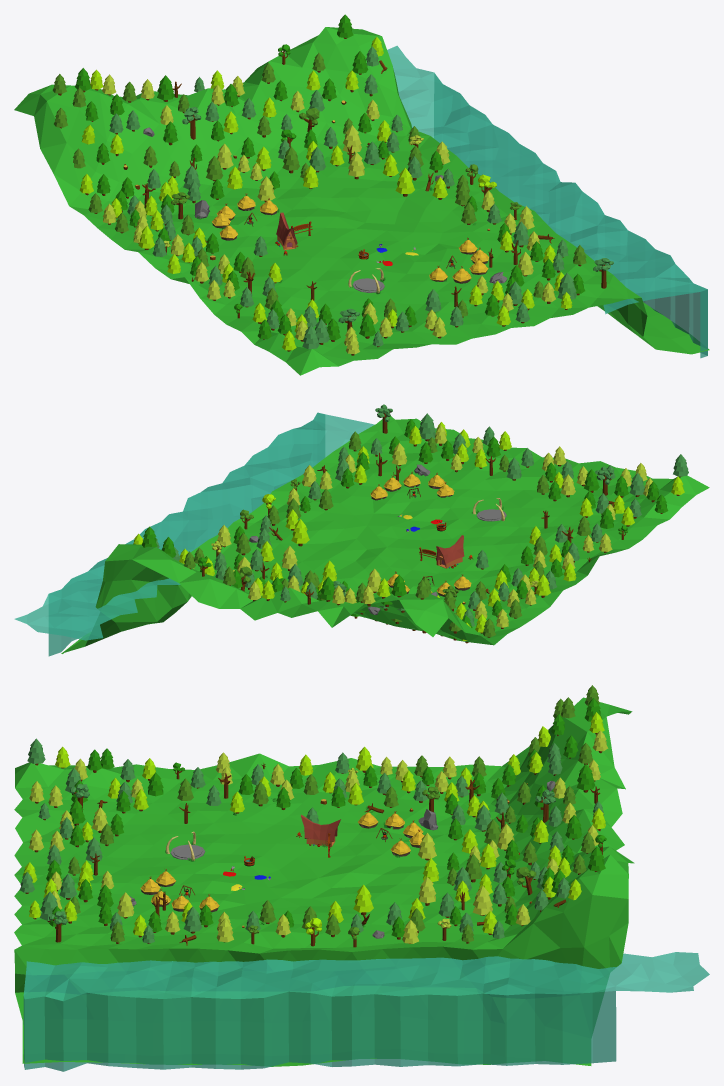
The model's file is BattleScene_0512.FBX.
The picture shows the model from 3 angles, top to bottom: view 1: azimuth 30°, elevation 25°; view 2: azimuth 150°, elevation 25°; view 3: azimuth 270°, elevation 25°; orthographic projection. The views are drawn at different scales.
Parts seen in each view (by area): view 1: Object004, river, Shop; view 2: Object004, river, Shop, Cylinder001; view 3: Object004, river, Shop.
Part boxes in pixels (<box>): Object004: <box>14,27,709,375</box>; river: <box>387,45,707,358</box>; Shop: <box>275,212,312,249</box>; Object004: <box>61,416,709,653</box>; river: <box>14,412,374,656</box>; Shop: <box>419,535,464,568</box>; Cylinder001: <box>473,498,506,521</box>; Object004: <box>14,697,634,1066</box>; river: <box>23,952,709,1071</box>; Shop: <box>301,814,340,857</box>.
Bounding box in the file's own units: 220 × 89.75 × 296.
